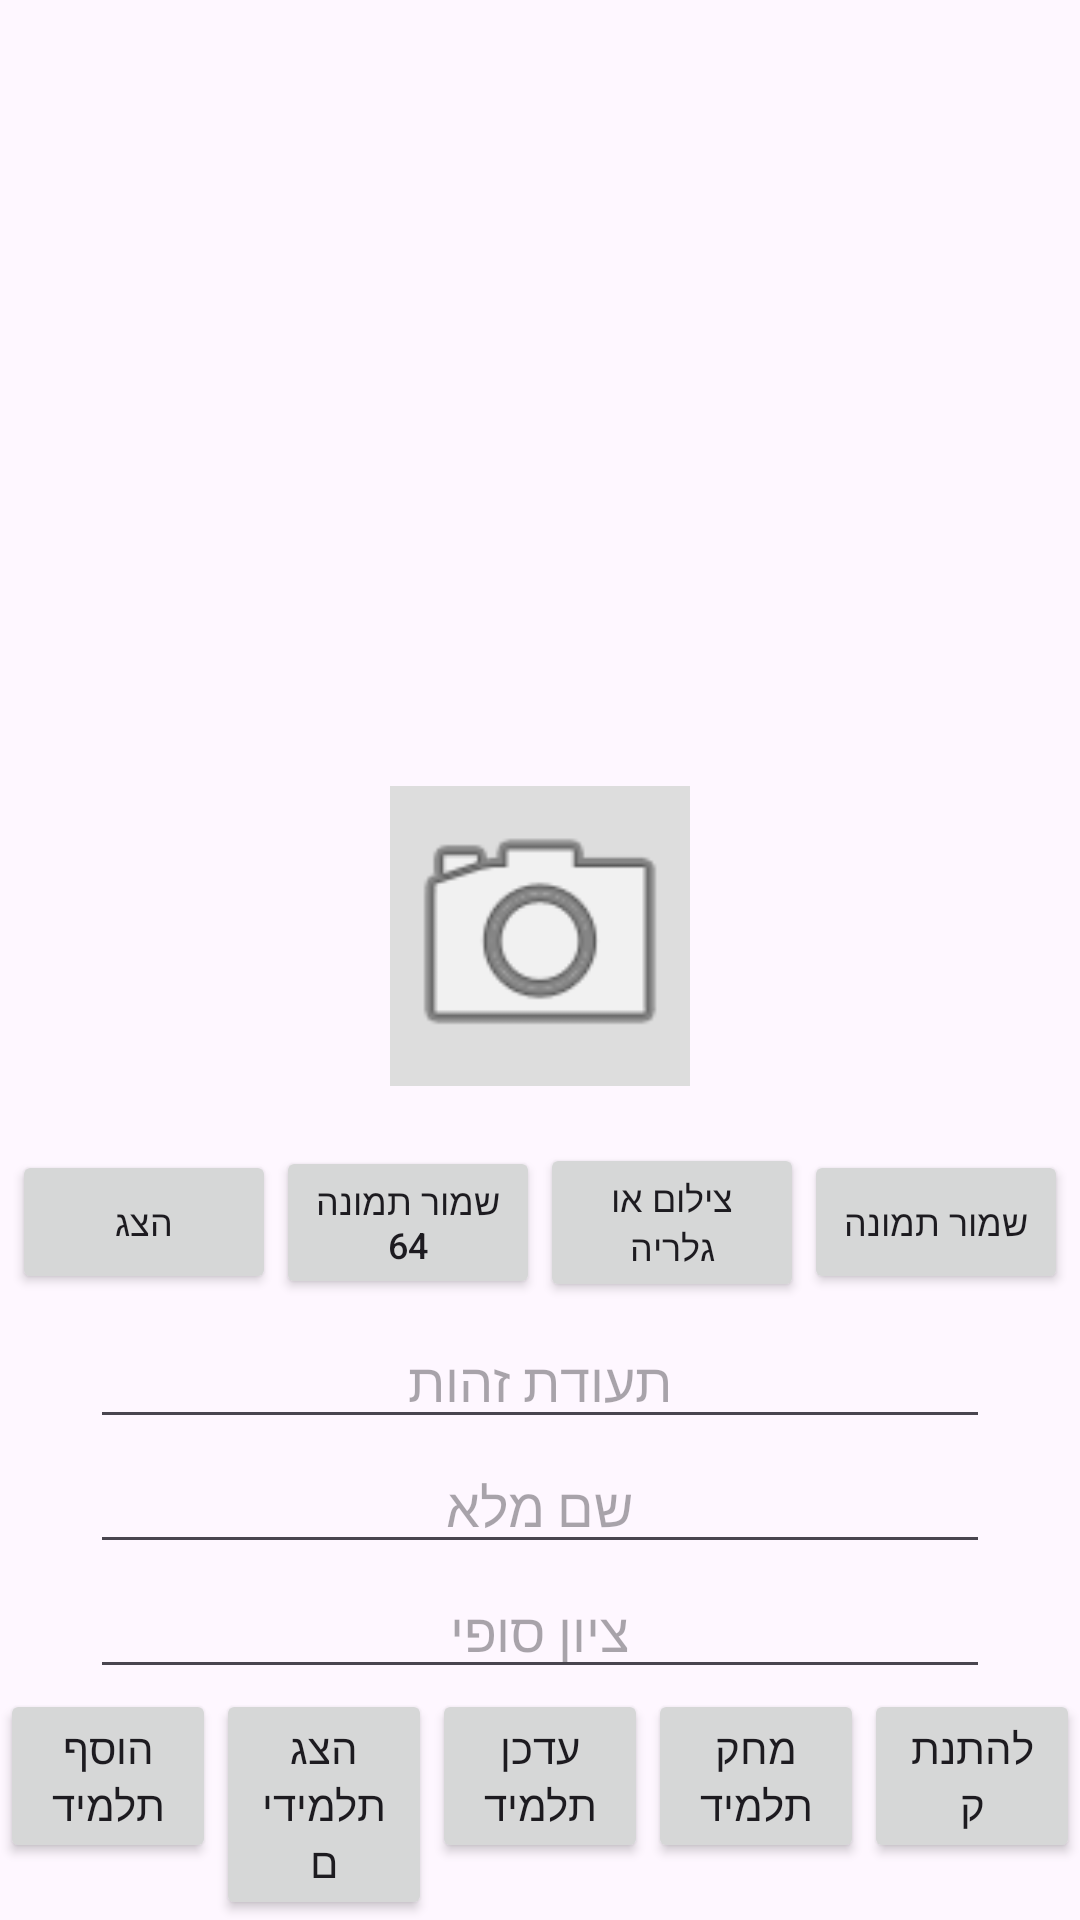

Named icons in this screenshot (1080x1920) and their bounding boxes, (x1, y1, x2, y2):
תמונת התלמיד: (390, 786, 690, 1086)
